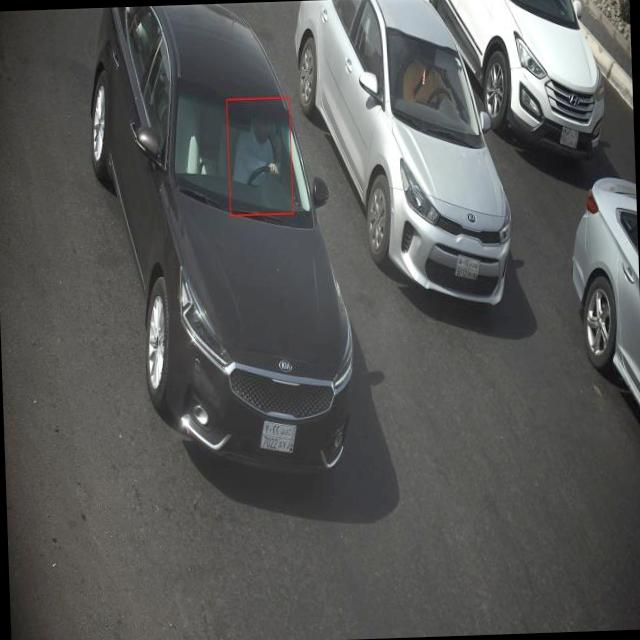person_with_seatbelt: (402, 46, 464, 114)
person_without_seatbelt: (230, 102, 296, 202)
